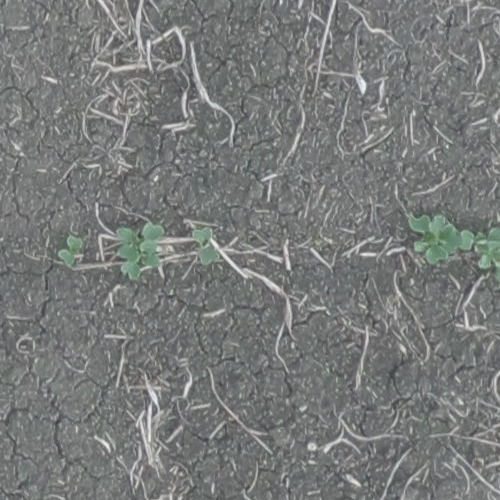clumped: (411, 212, 499, 280), (115, 221, 162, 266)
isolated: (194, 229, 221, 265), (60, 235, 83, 270)
